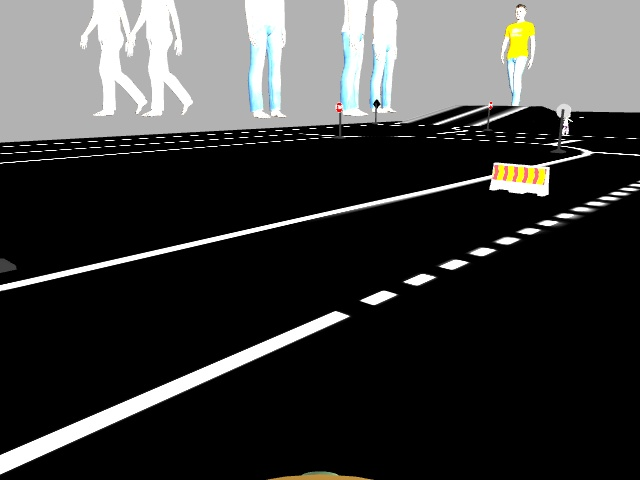ClosedRoadStand: (493, 163, 548, 193)
